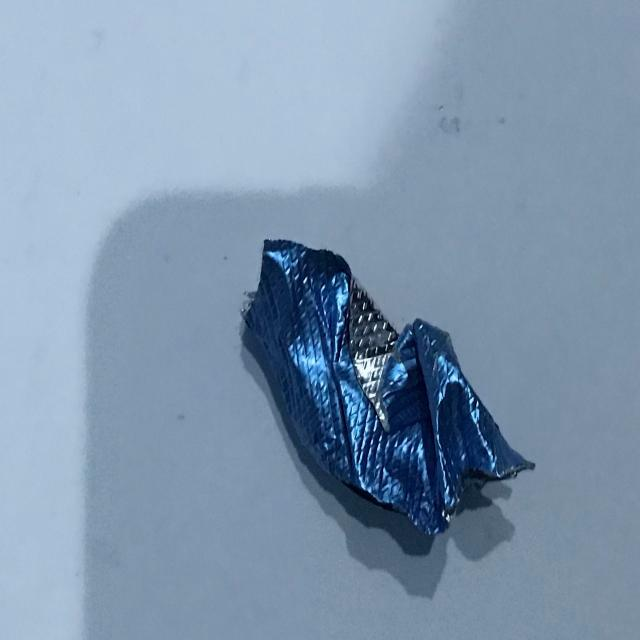metal: (233, 218, 542, 557)
